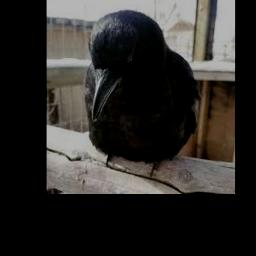Crow: (84, 10, 201, 179)
